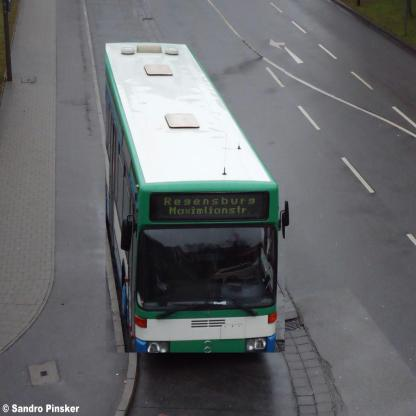bus: (107, 40, 286, 354)
